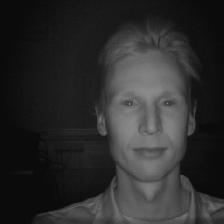normal: (96, 25, 206, 178)
